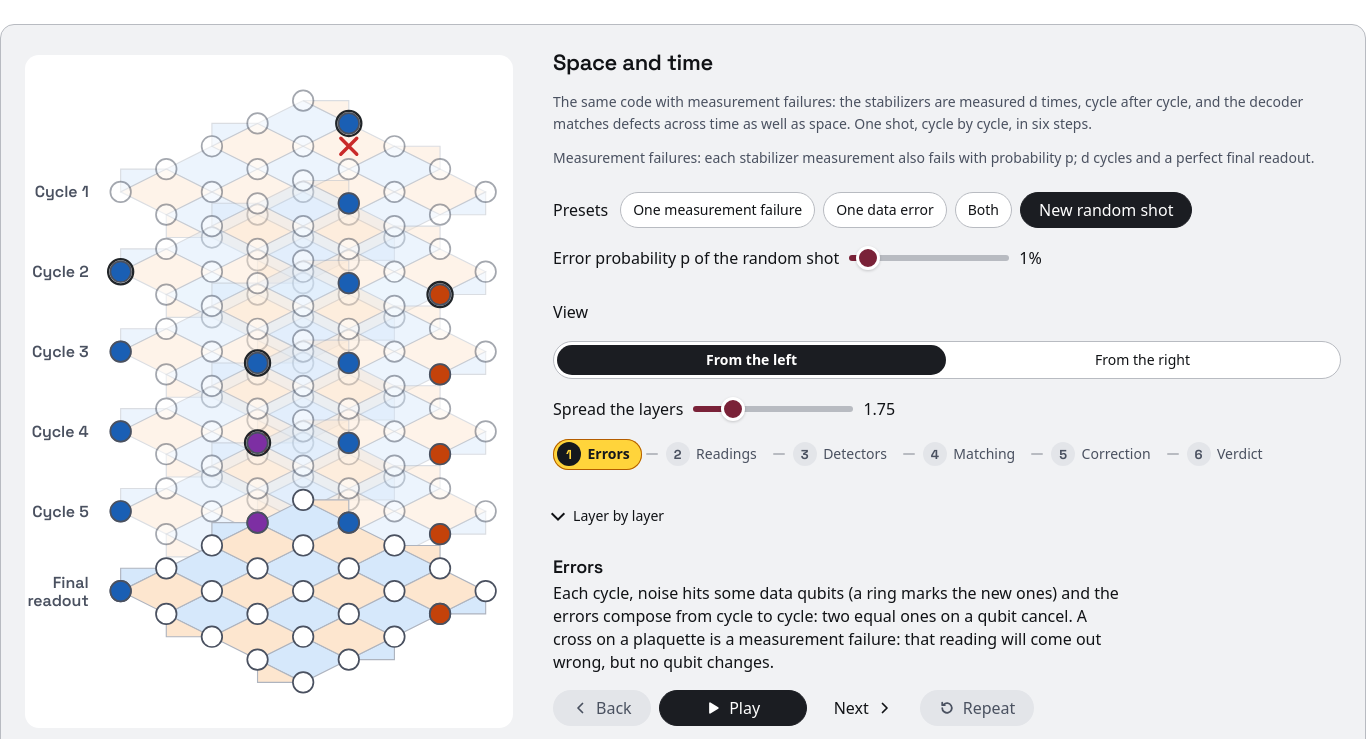
Test: SpacetimePanel (T-G7) › preset "flip": two defects on one plaquette in consecutive layers, one reading lit, no correction, verdict 0
What coordinates should you click on to do the following:
click the button "One measurement failure"
I would click on:
 (718, 210)
Its box is [620, 192, 815, 228].
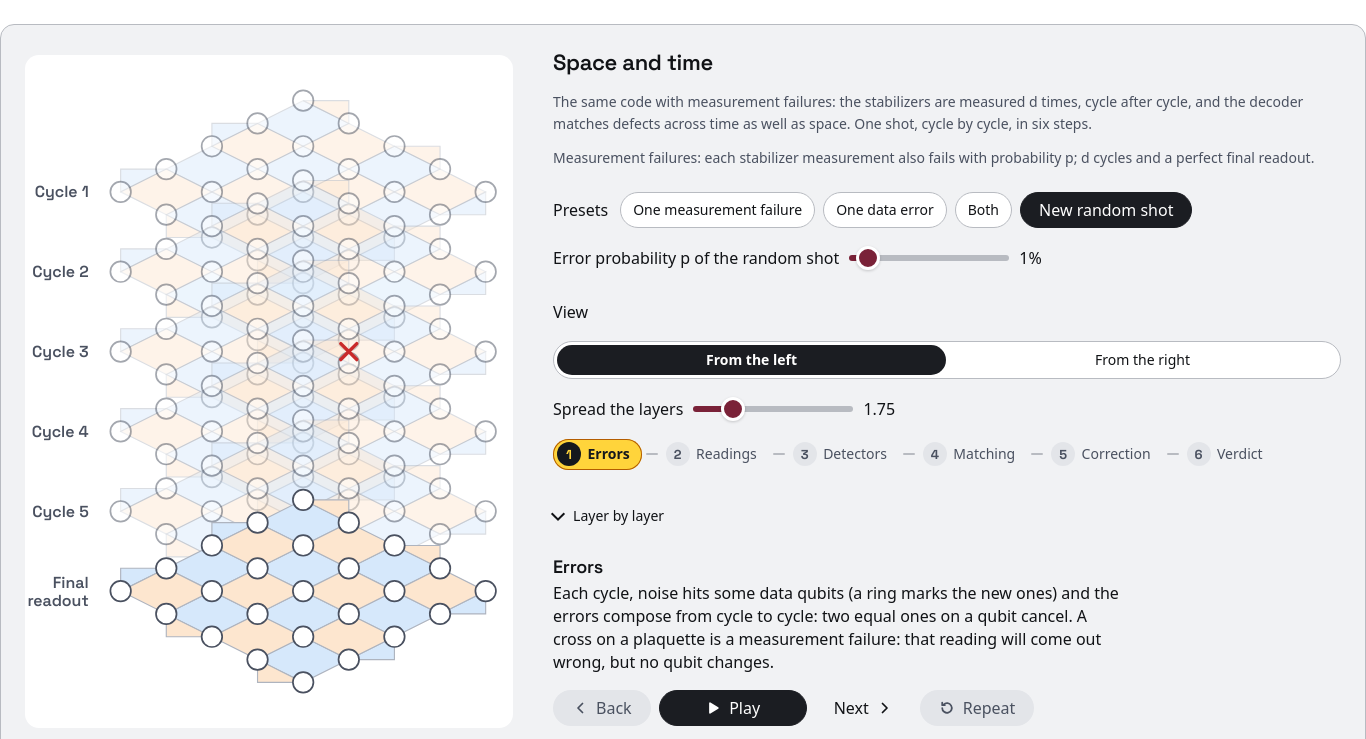
What coordinates should you click on to do the following:
click the button "Next"
I would click on:
 (863, 708)
Its box is [815, 690, 912, 726].
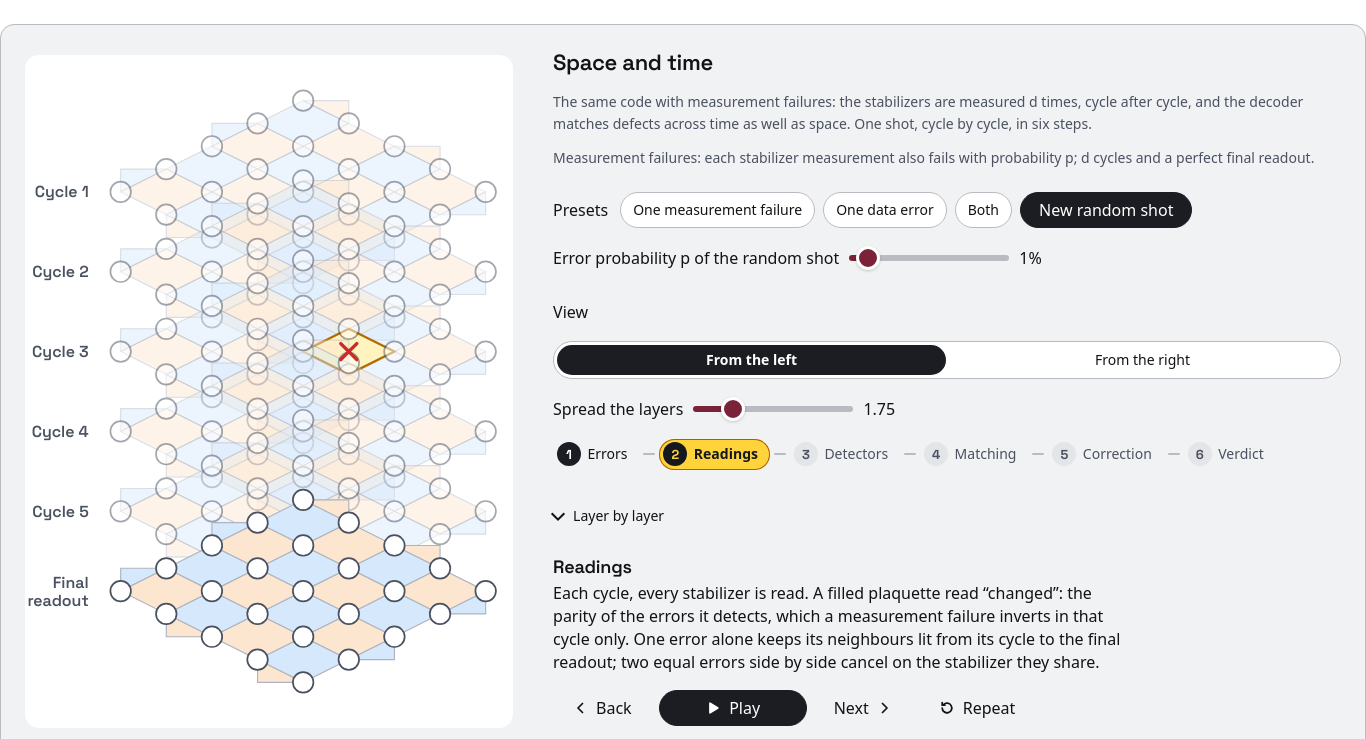
What coordinates should you click on to do the following:
click the button "Next"
I would click on:
 (863, 708)
Its box is [815, 690, 912, 726].
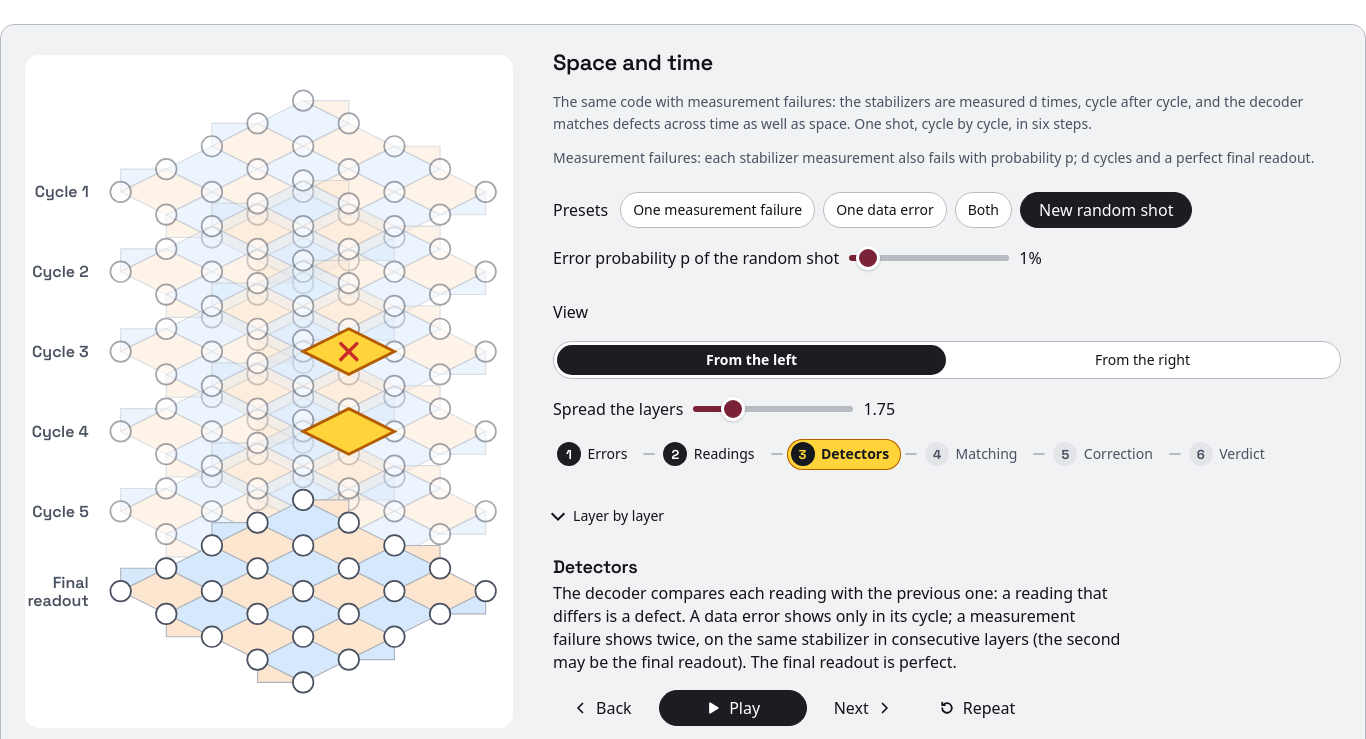
What coordinates should you click on to do the following:
click the button "Next"
I would click on:
 (863, 708)
Its box is [815, 690, 912, 726].
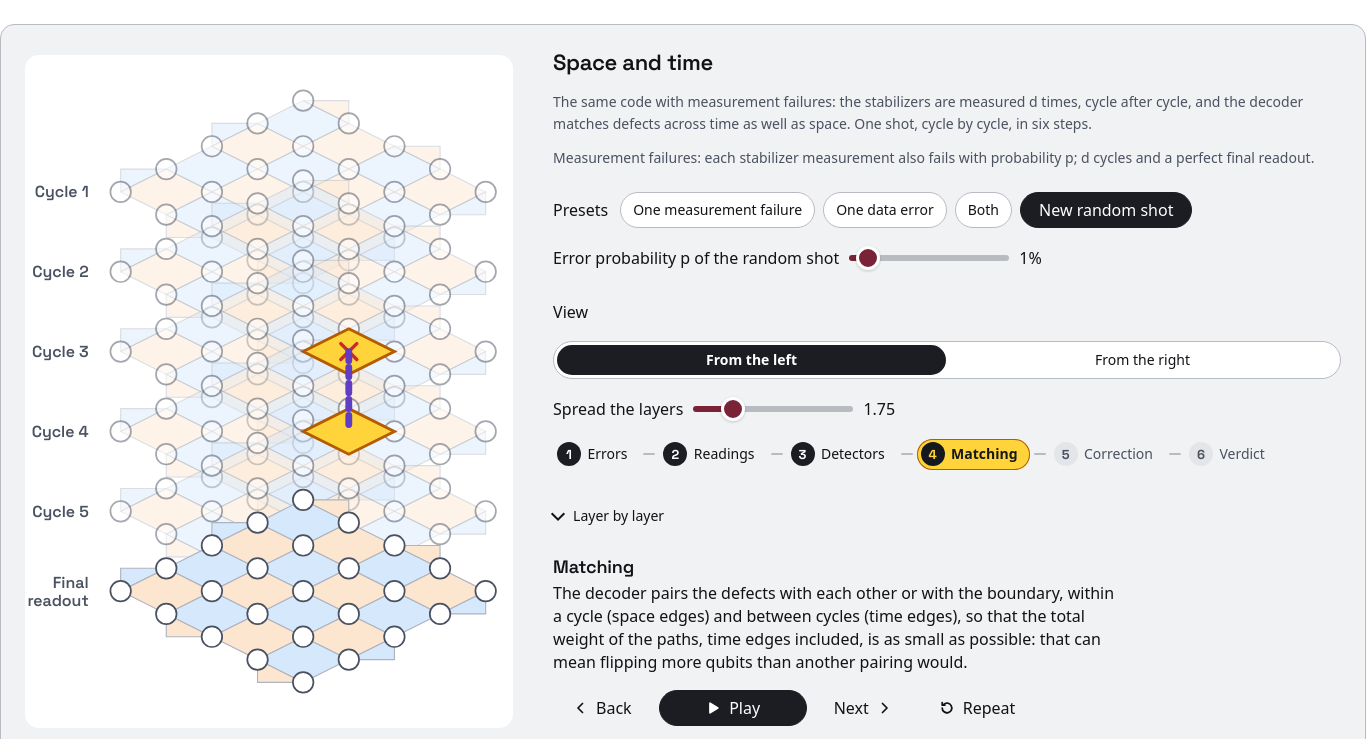
What coordinates should you click on to do the following:
click the button "Next"
I would click on:
 (863, 708)
Its box is [815, 690, 912, 726].
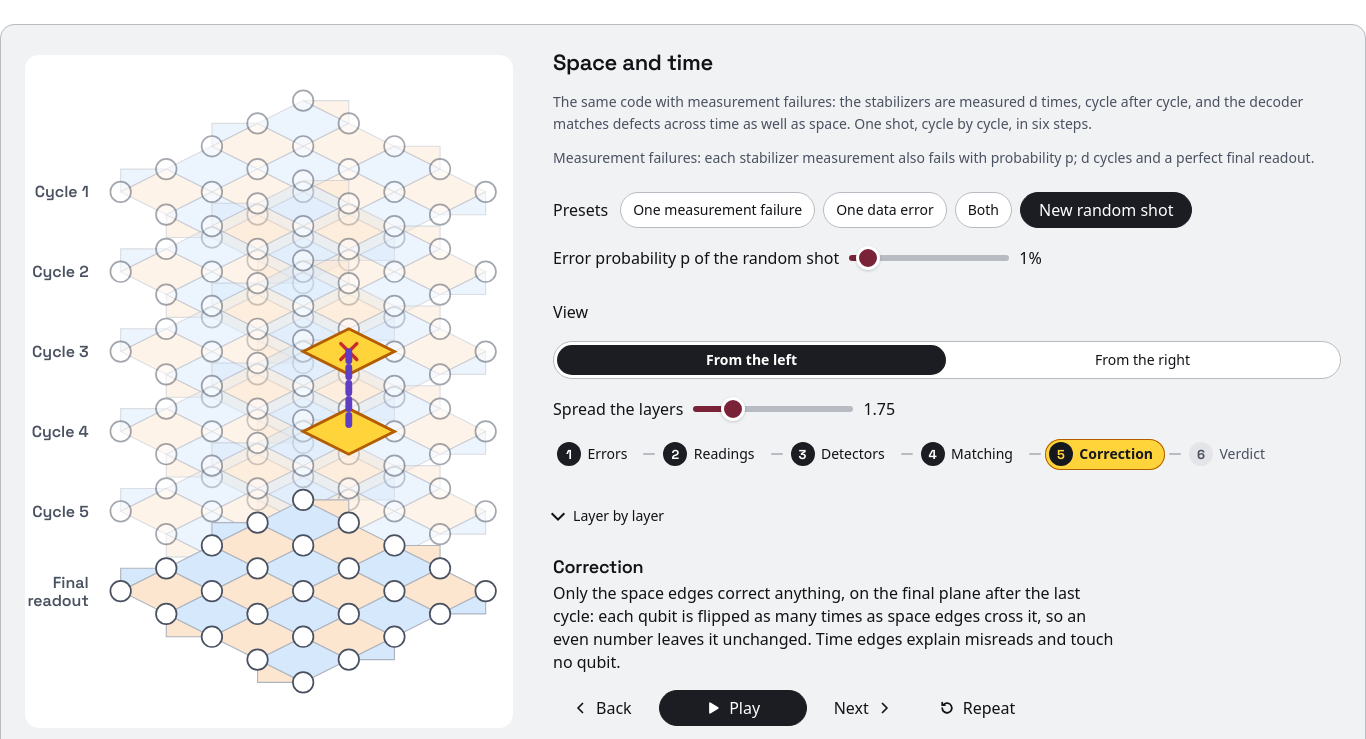
What coordinates should you click on to do the following:
click the button "Next"
I would click on:
 (863, 708)
Its box is [815, 690, 912, 726].
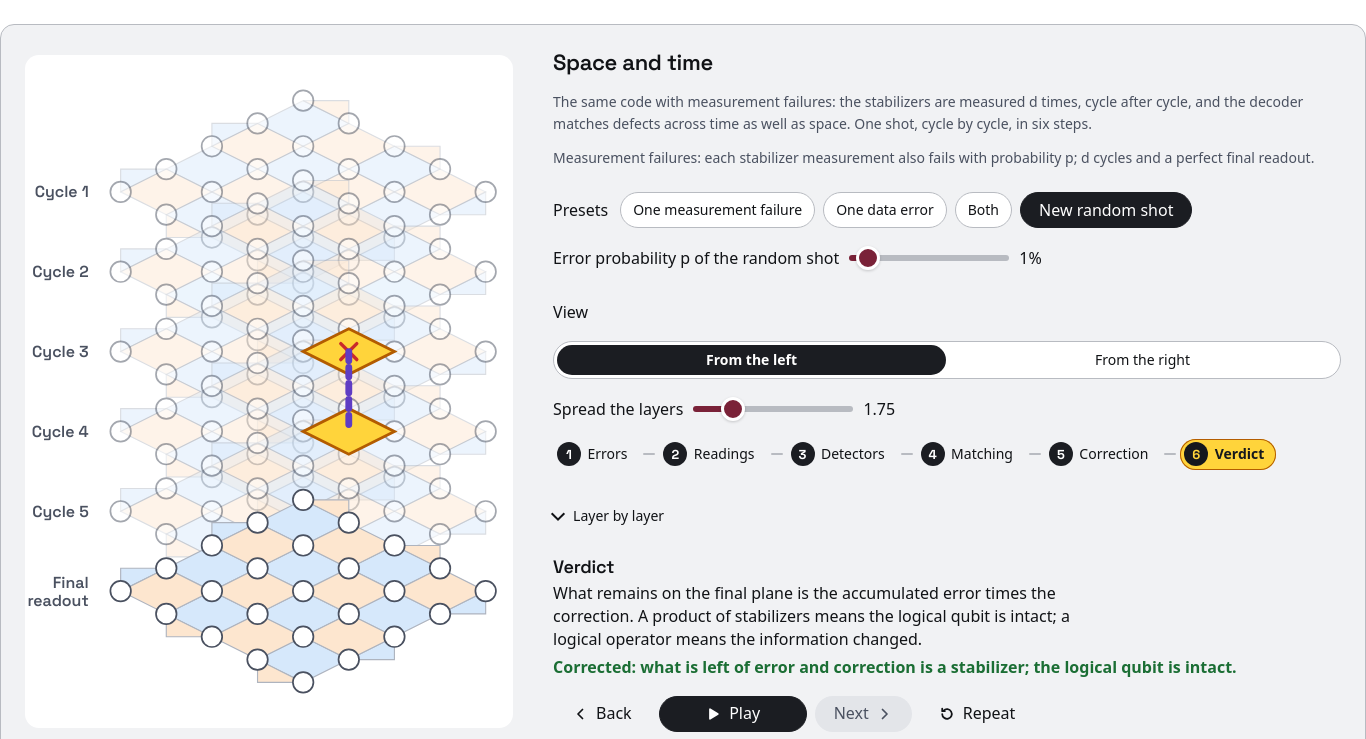
Check: the text with class "spacetime__verdict" shows "Corrected: what is left of error and correction is a stabilizer; the logical qubit is intact.", box [553, 656, 1237, 678]
